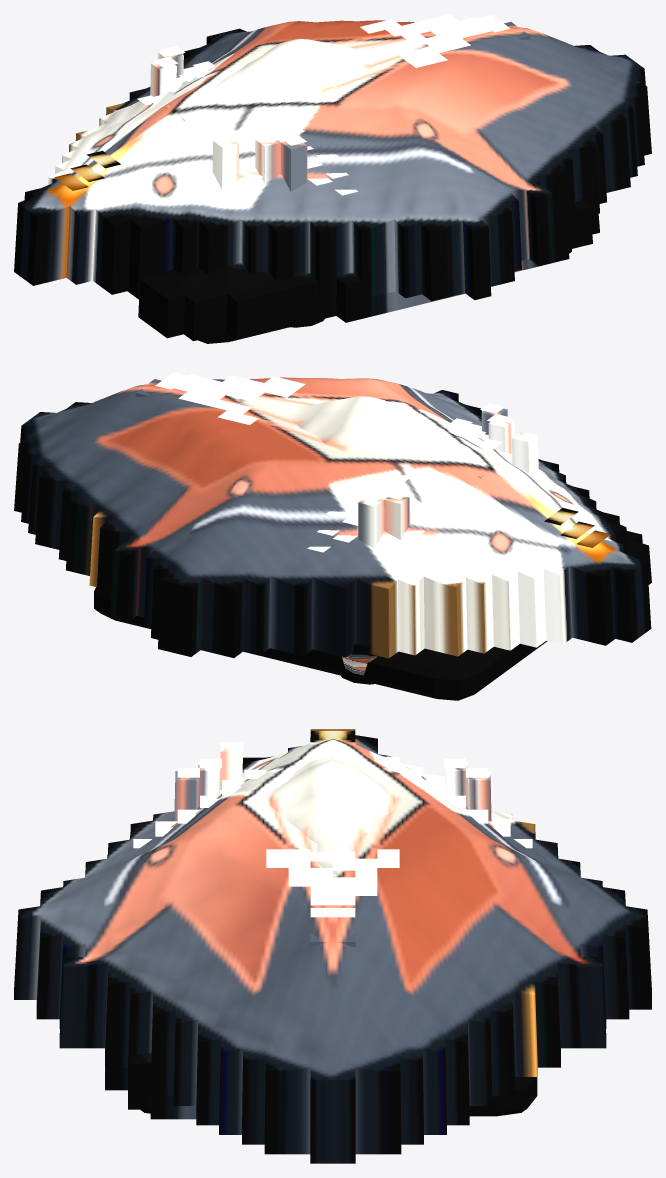
3 views of the same model, one above another, from view 1: azimuth 30°, elevation 25°; view 2: azimuth 150°, elevation 25°; view 3: azimuth 270°, elevation 25° (orthographic). The views are drawn at different scales.
Visible parts, largest first — view 1: chassis-heightfield, underbody-layered-relief, dart-fins-relief, semantic-team-surfaces, authored-emissive-surfaces; view 2: chassis-heightfield, dart-fins-relief, hover-plenum, semantic-team-surfaces, authored-emissive-surfaces, hover-jet-left, underbody-layered-relief; view 3: chassis-heightfield, dart-fins-relief, semantic-team-surfaces, underbody-layered-relief, hover-plenum.
Part boxes in pixels (bbox=[...]): chassis-heightfield: bbox=[14, 20, 651, 301]; underbody-layered-relief: bbox=[138, 199, 599, 341]; dart-fins-relief: bbox=[150, 22, 530, 191]; semantic-team-surfaces: bbox=[137, 14, 510, 195]; authored-emissive-surfaces: bbox=[54, 150, 120, 190]; chassis-heightfield: bbox=[14, 377, 651, 658]; dart-fins-relief: bbox=[135, 379, 538, 548]; hover-plenum: bbox=[94, 587, 547, 700]; semantic-team-surfaces: bbox=[155, 372, 512, 552]; authored-emissive-surfaces: bbox=[544, 508, 610, 547]; hover-jet-left: bbox=[341, 643, 377, 684]; underbody-layered-relief: bbox=[626, 531, 651, 584]; chassis-heightfield: bbox=[14, 729, 651, 1163]; dart-fins-relief: bbox=[174, 742, 491, 947]; semantic-team-surfaces: bbox=[133, 758, 532, 917]; underbody-layered-relief: bbox=[105, 836, 196, 1119]; hover-plenum: bbox=[140, 1077, 537, 1116].
Size of the model in its own units: 0.9 by 0.2832 by 0.6811.
Materials: 5 (4 with a texture image).
